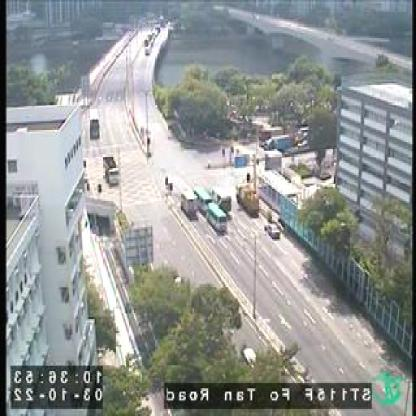Bus: (91, 109, 100, 137)
Car: (266, 224, 281, 235)
Minibus: (209, 201, 228, 229), (194, 187, 213, 212)
Truck: (238, 182, 261, 211), (184, 189, 198, 220), (214, 187, 232, 210), (107, 154, 121, 182)
